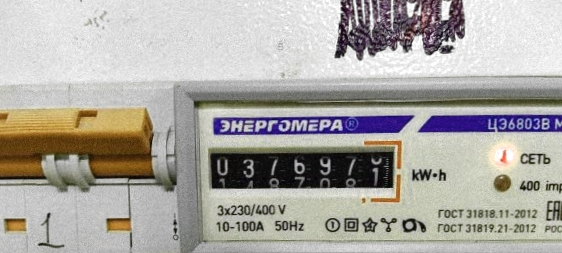0: (214, 154, 230, 176)
1: (370, 165, 381, 187)
3: (241, 156, 255, 179)
6: (293, 153, 306, 174)
7: (267, 152, 280, 177), (344, 153, 357, 176)
9: (318, 153, 331, 176)
screen: (201, 137, 406, 209)
